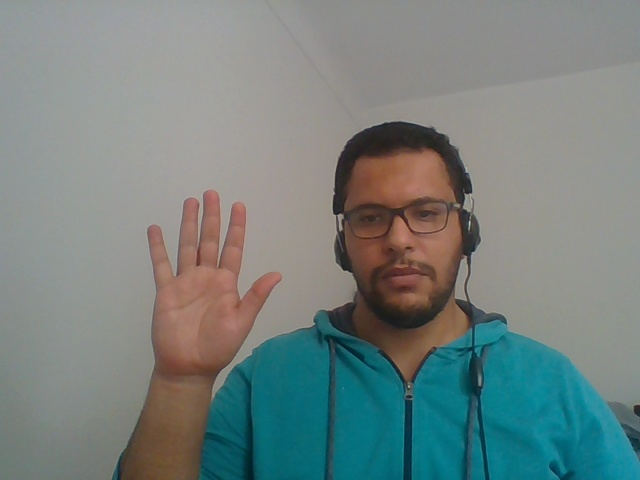hello: (114, 175, 297, 414)
